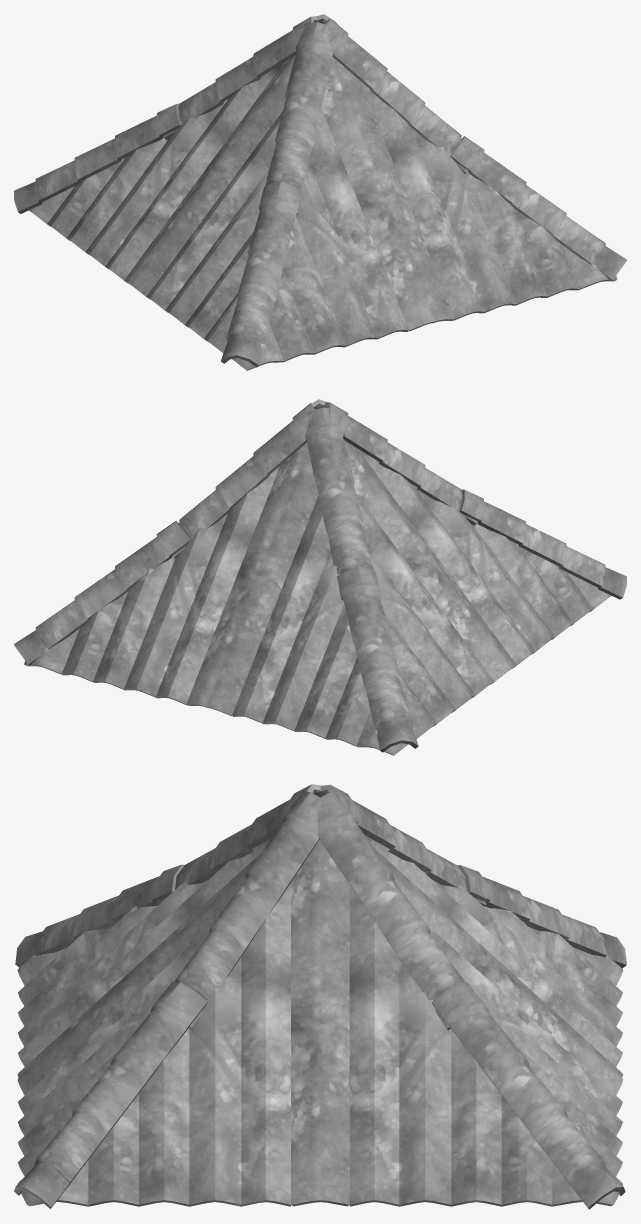
Rendered from SM_Roof_01a.fbx.
3 renders of one model, top to bottom at view 1: azimuth 30°, elevation 25°; view 2: azimuth 150°, elevation 25°; view 3: azimuth 270°, elevation 25°, orthographic. The views are drawn at different scales.
Visible parts, largest first — view 1: SM_Roof_01a_LOD0; view 2: SM_Roof_01a_LOD0; view 3: SM_Roof_01a_LOD0.
Part boxes in pixels (box(x1,y1,x2,y2)): SM_Roof_01a_LOD0: box(14, 14, 626, 370); SM_Roof_01a_LOD0: box(14, 399, 626, 755); SM_Roof_01a_LOD0: box(14, 784, 626, 1209).
Size of the model in its own units: 351 by 351 by 190.
